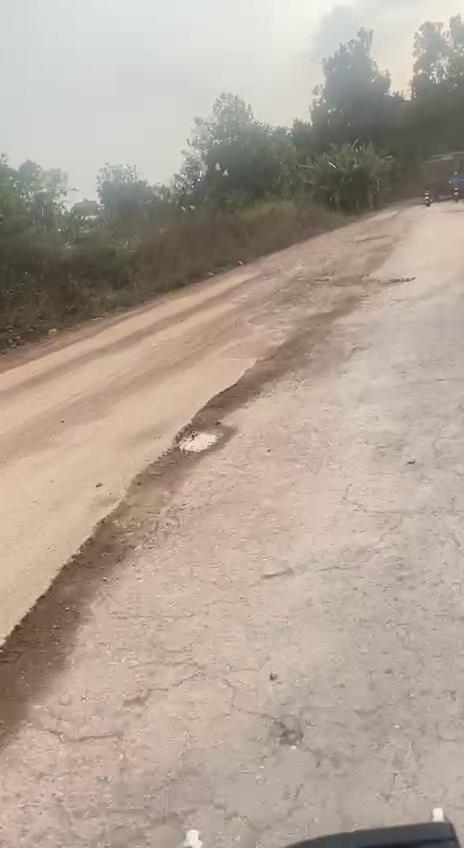pothole: (0, 494, 160, 716), (172, 414, 238, 463)
